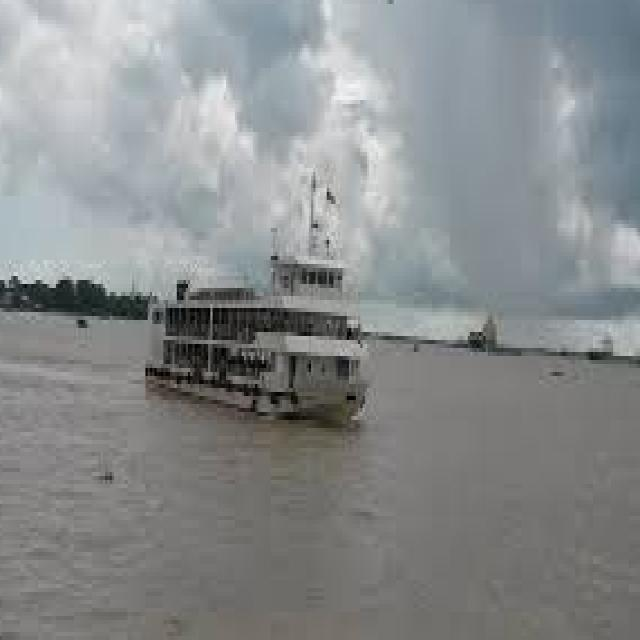passenger ship: (148, 217, 391, 414)
